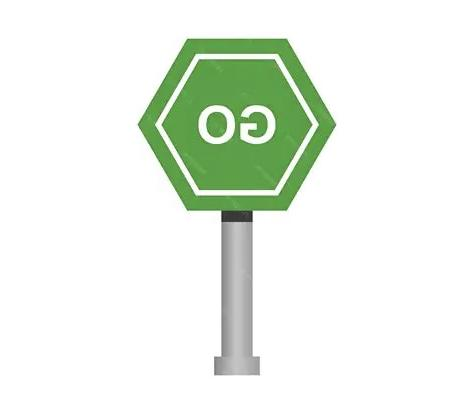Go: (139, 38, 335, 211)
